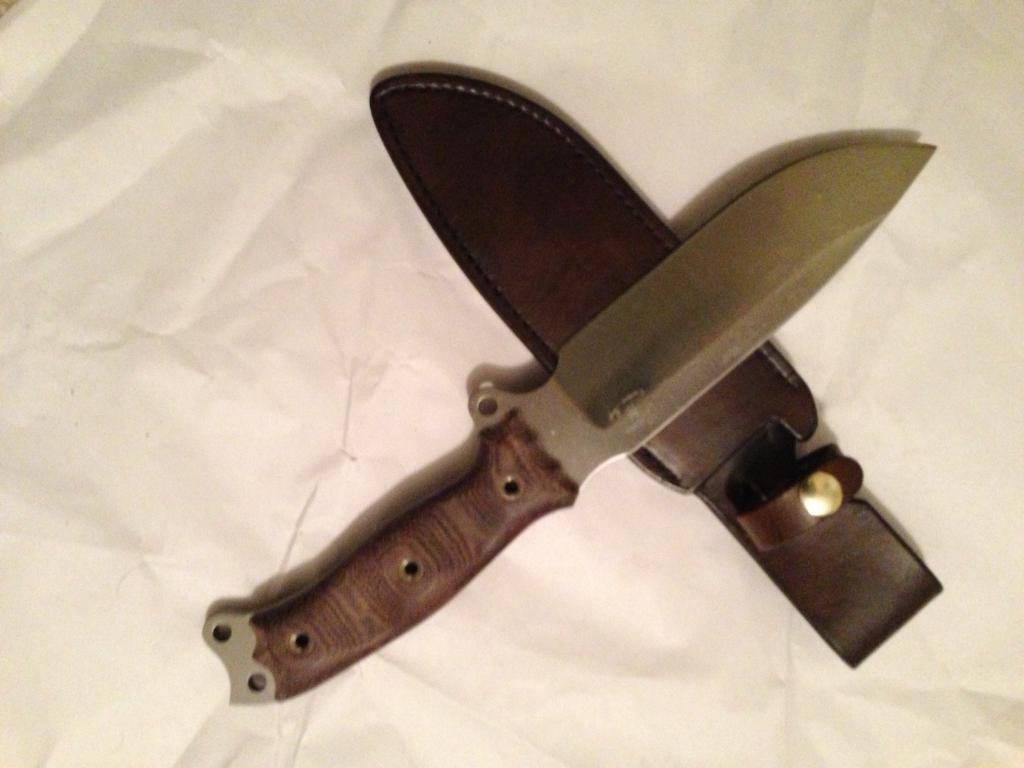knife: (202, 138, 933, 710)
